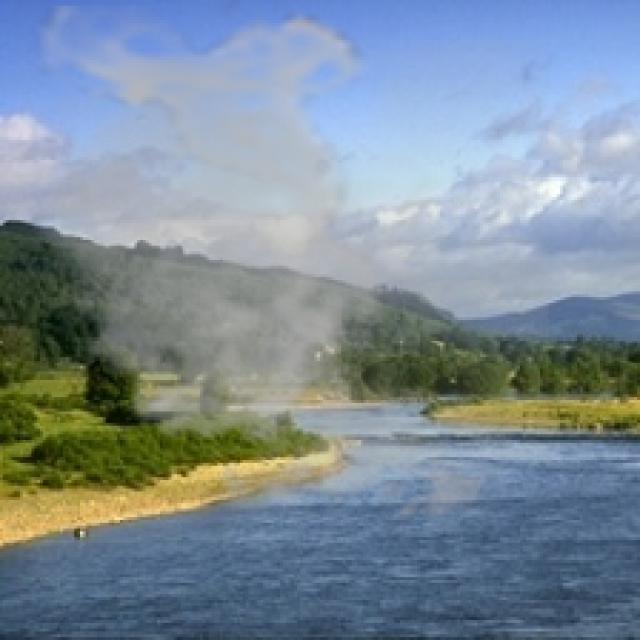smoke: (11, 6, 548, 537)
